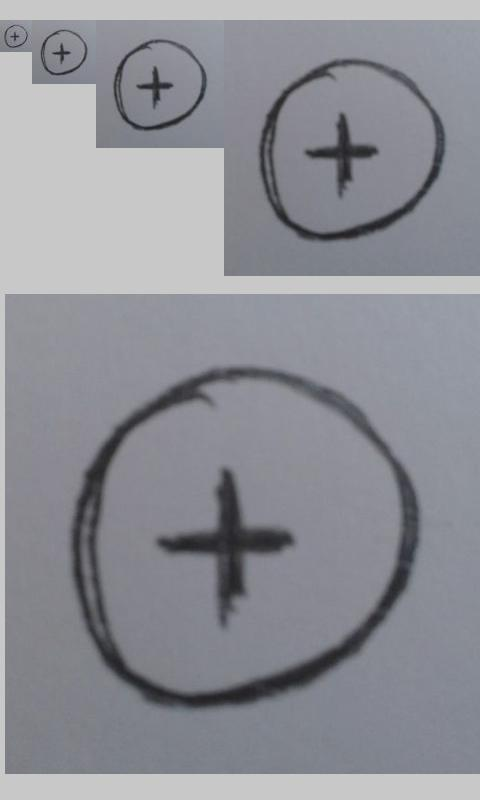button: (74, 364, 419, 713), (259, 58, 446, 242), (114, 39, 207, 131), (41, 29, 87, 75), (4, 24, 28, 48)
